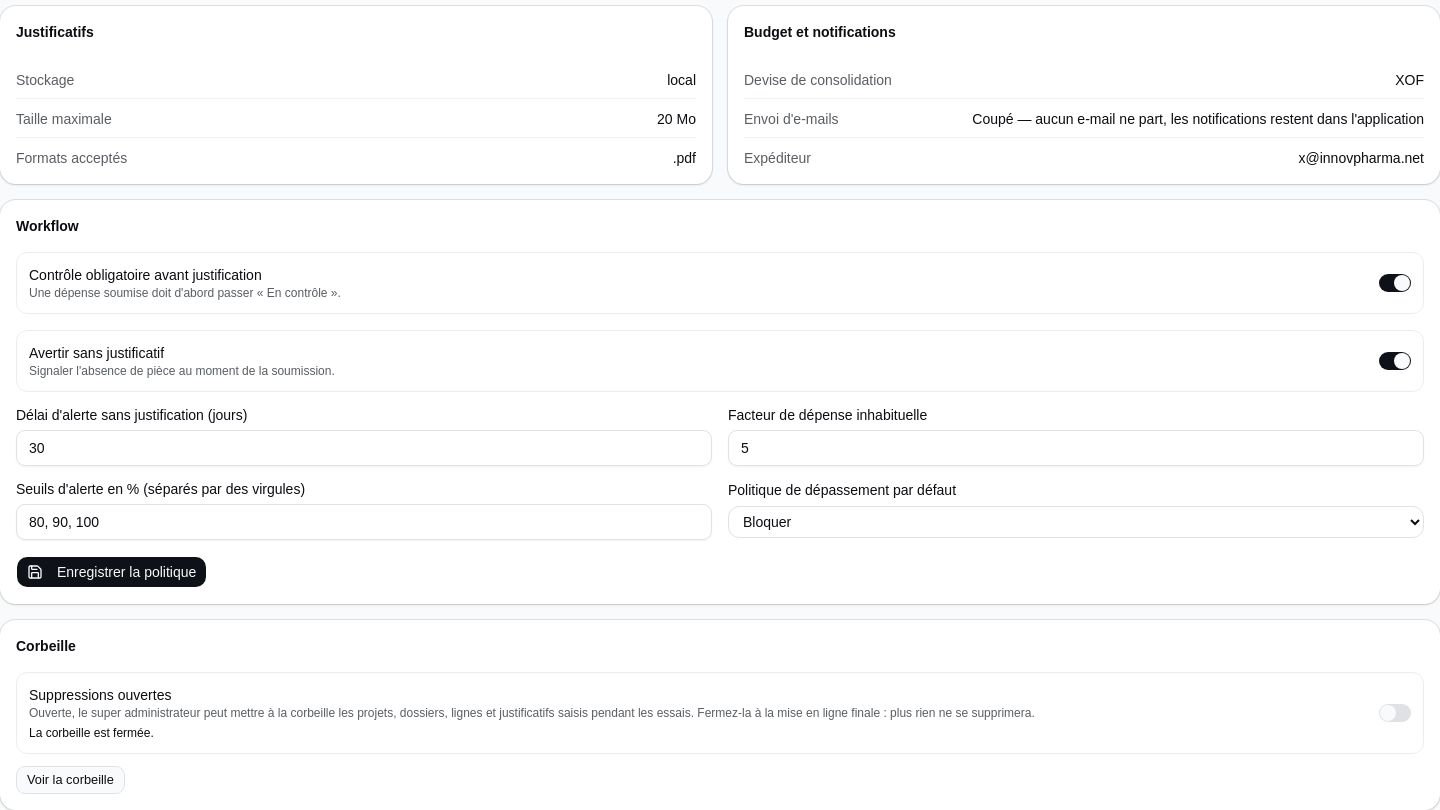
Test: GeneralSection — corbeille › le super administrateur l'ouvre d'un geste, et le profil est relu
(page scrolled)
Click the 3rd switch named "Suppressions ouvertes" at (1395, 713), box [1379,704,1411,722]
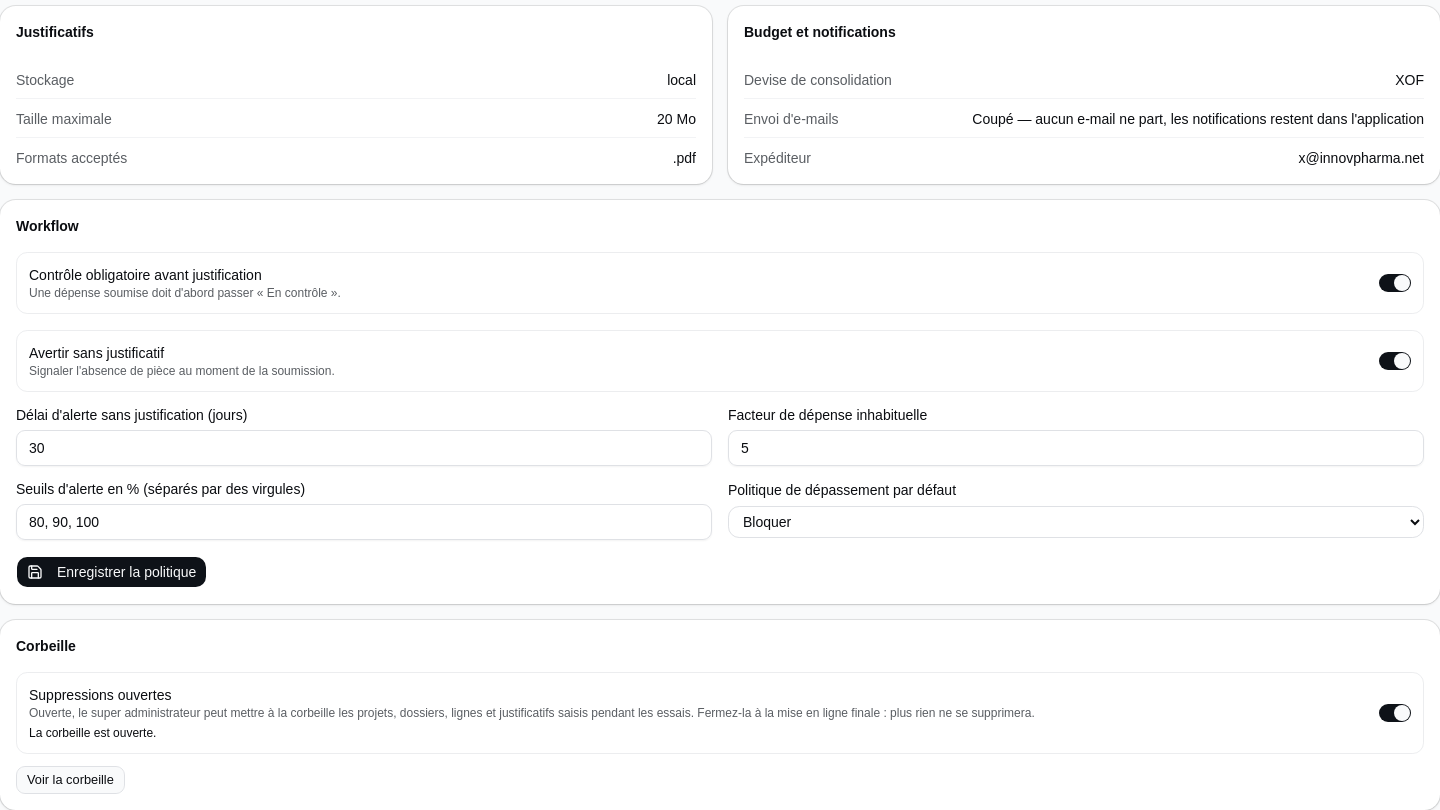
Now the text "La corbeille est ouverte." is shown, box [29,726,156,740]
